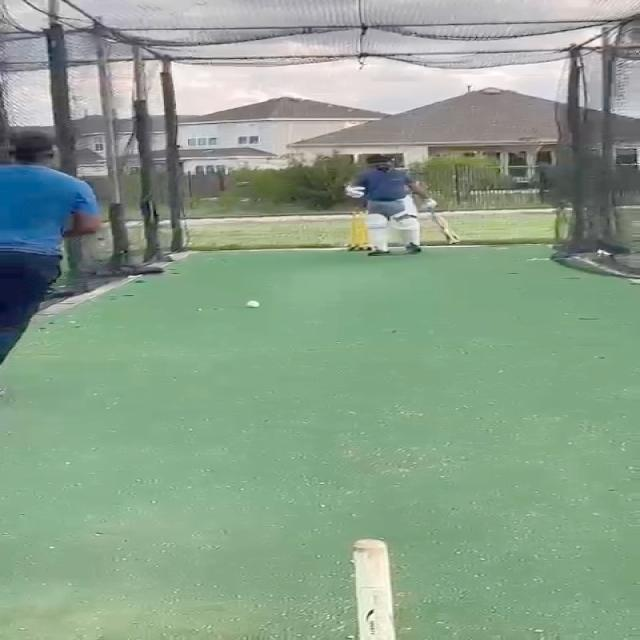batsman: (343, 152, 463, 257)
